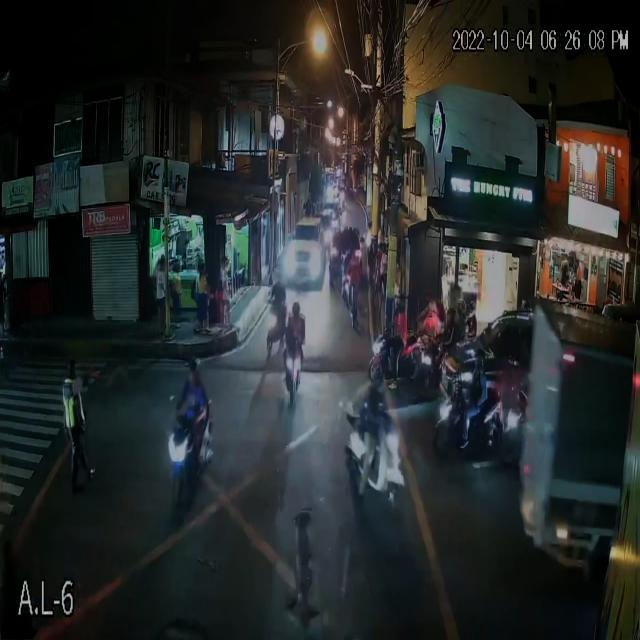Full-Faced: (288, 300, 302, 321)
Invalid: (184, 355, 203, 384)
